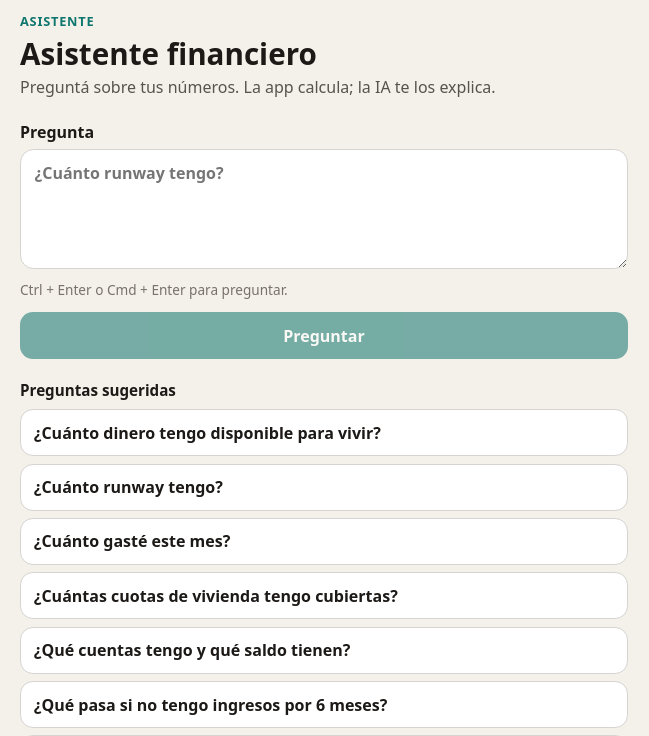
Assistant › fills a suggested question without sending it
The image size is (649, 736).
Click the button "¿Cuánto dinero tengo disponible para vivir?" at (324, 433), box [20,409,628,456]
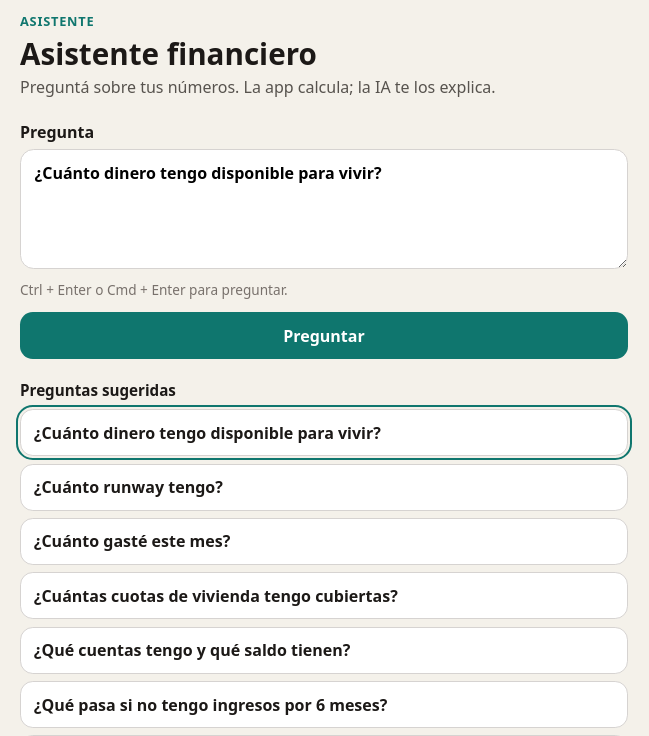
expect the text box labelled "Pregunta" holds "¿Cuánto dinero tengo disponible para vivir?": met, box [20,149,628,269]
